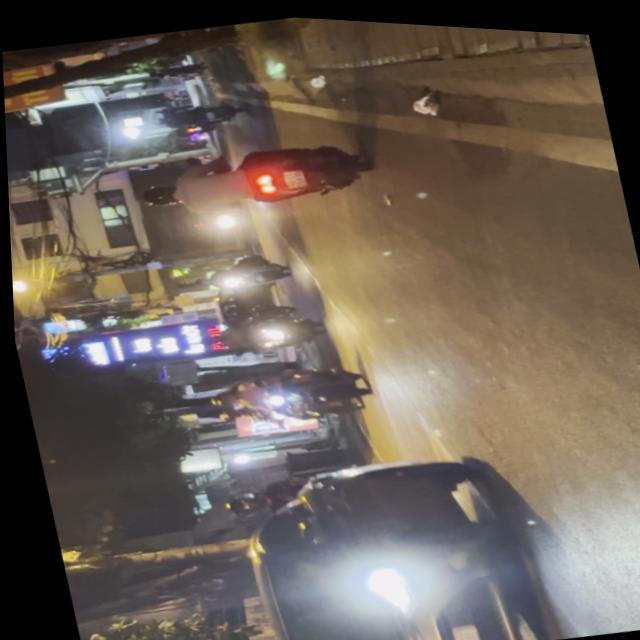helmet: (134, 179, 174, 209)
licenseplate: (126, 120, 376, 234)
nohelmet: (278, 165, 305, 188)
